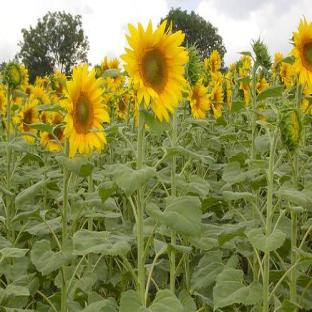sunflower: (119, 20, 191, 123), (60, 64, 114, 159)
